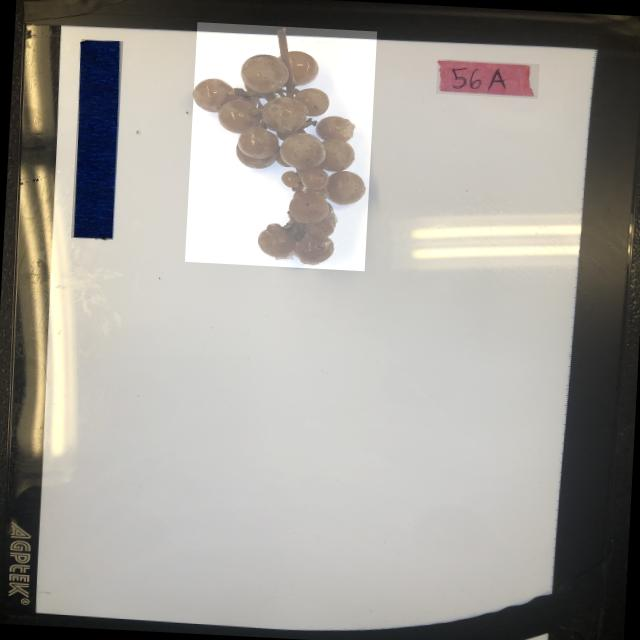grape_cluster: (185, 22, 378, 271)
index: (436, 59, 540, 99)
measure_label: (71, 39, 123, 240)
